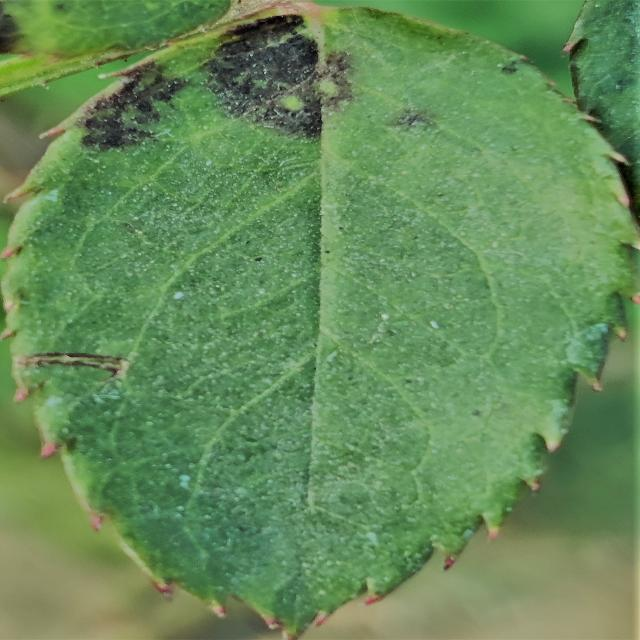Black_spot: (199, 11, 351, 143)
Rose: (1, 1, 638, 637)
